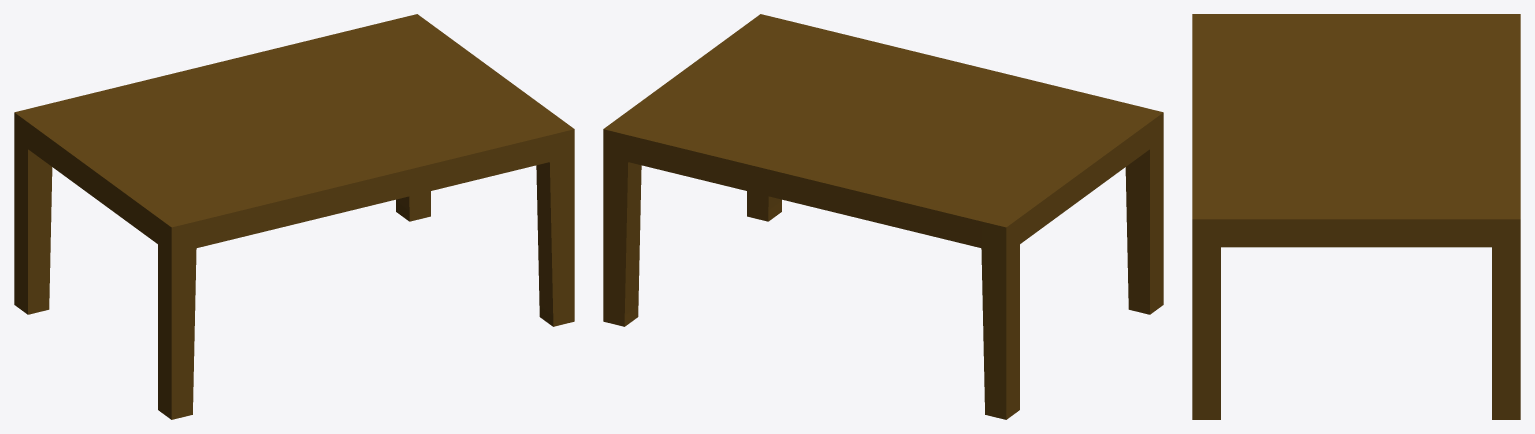
The model's file is CoffeeTable_5.fbx.
The picture shows the model from 3 angles, left to right: view 1: azimuth 30°, elevation 25°; view 2: azimuth 150°, elevation 25°; view 3: azimuth 270°, elevation 25°; orthographic projection. The views are drawn at different scales.
Parts seen in each view (by area): view 1: CoffeeTable5; view 2: CoffeeTable5; view 3: CoffeeTable5.
Part boxes in pixels (bbox=[...]): CoffeeTable5: bbox=[14, 14, 574, 419]; CoffeeTable5: bbox=[603, 14, 1163, 419]; CoffeeTable5: bbox=[1192, 14, 1520, 419].
Size of the model in its own units: 391 by 179 by 265.
